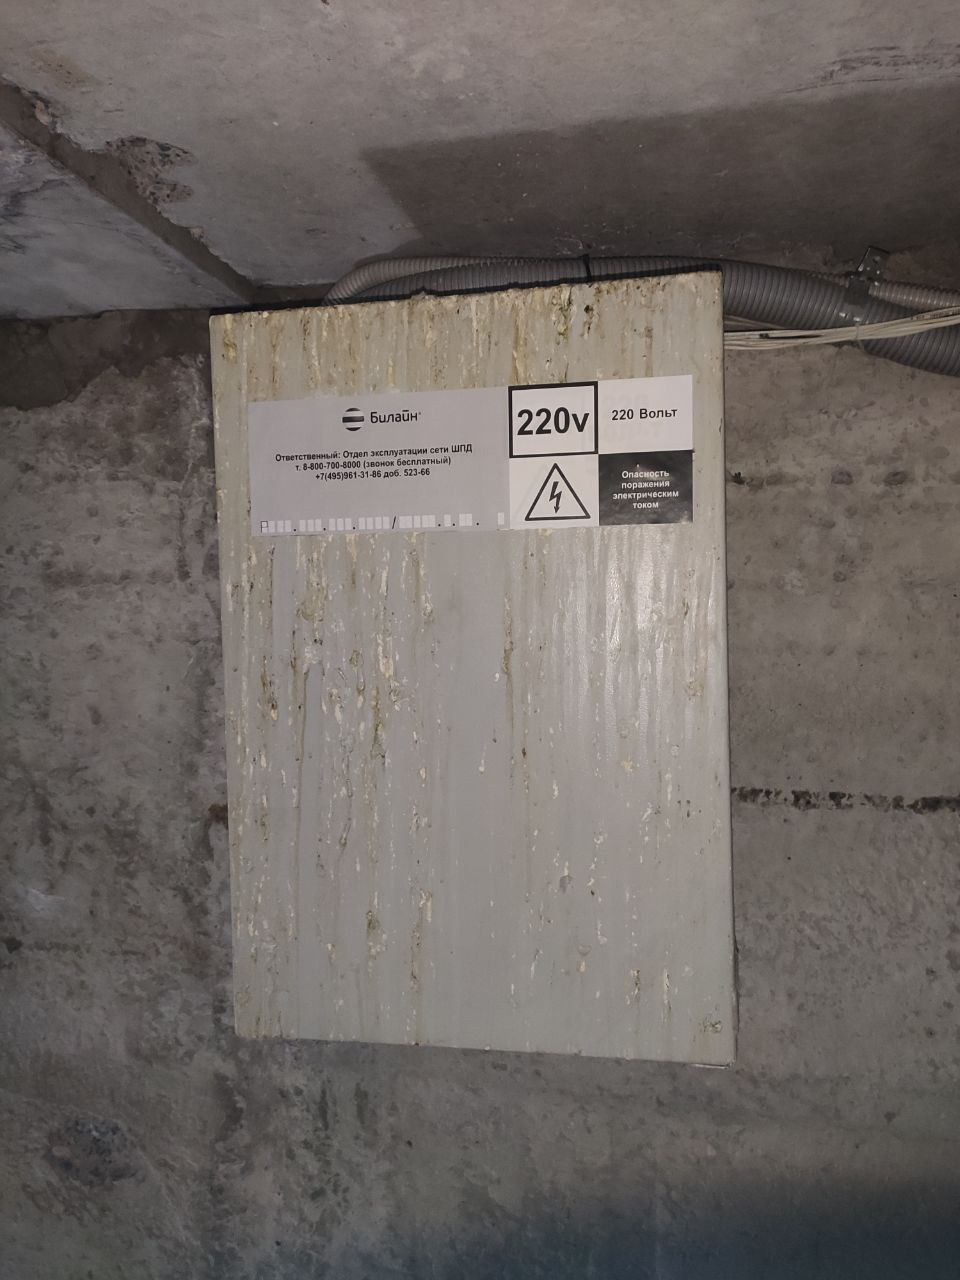sv-5: (195, 262, 750, 1073)
